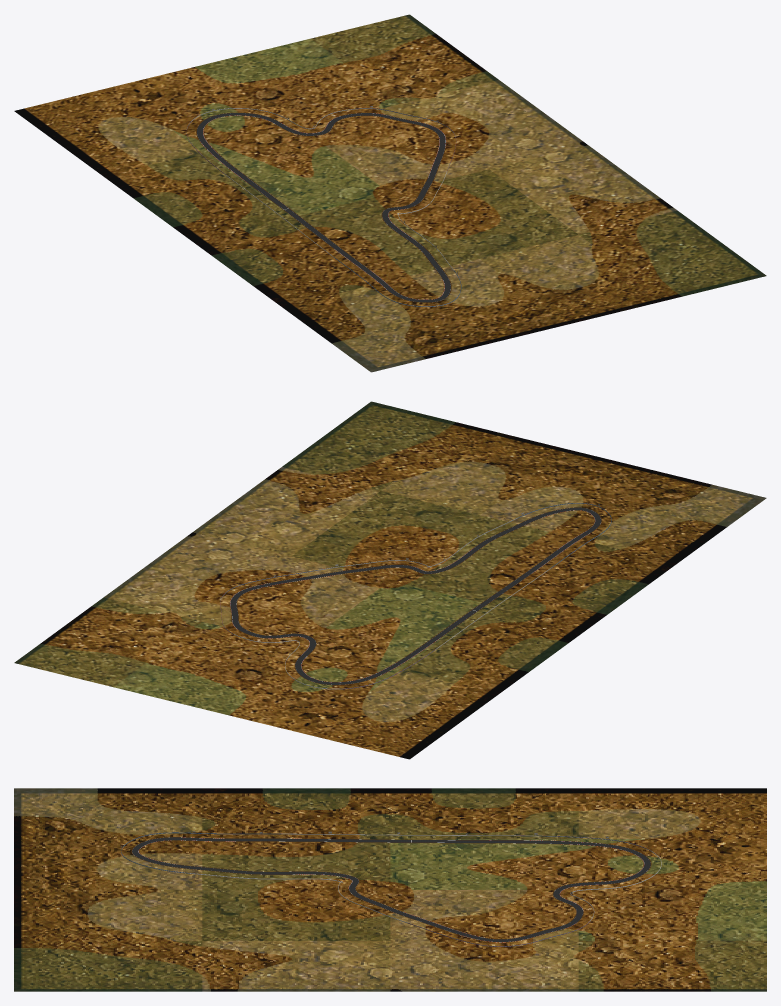
The model's file is la_chutana.glb.
3 renders of one model, top to bottom at view 1: azimuth 30°, elevation 25°; view 2: azimuth 150°, elevation 25°; view 3: azimuth 270°, elevation 25°, orthographic. The views are drawn at different scales.
Visible parts, largest first — view 1: GrassTerrainVisual, RoadVisual, Raw_Outer_TireBarrier, RightRoadsideVisual, LeftRoadsideVisual; view 2: GrassTerrainVisual, RoadVisual, Raw_Outer_TireBarrier, RightRoadsideVisual, LeftRoadsideVisual; view 3: GrassTerrainVisual, RoadVisual, Raw_Outer_TireBarrier, LeftRoadsideVisual, RightRoadsideVisual.
Boxes of the visible parts, x1,y1,x2,y2 form: GrassTerrainVisual: [14, 14, 766, 372]; RoadVisual: [197, 113, 450, 302]; Raw_Outer_TireBarrier: [186, 108, 461, 306]; RightRoadsideVisual: [196, 112, 451, 302]; LeftRoadsideVisual: [203, 115, 444, 299]; GrassTerrainVisual: [14, 401, 766, 759]; RoadVisual: [230, 507, 601, 684]; Raw_Outer_TireBarrier: [220, 503, 611, 689]; RightRoadsideVisual: [229, 507, 601, 685]; LeftRoadsideVisual: [236, 510, 594, 682]; GrassTerrainVisual: [14, 788, 766, 991]; RoadVisual: [132, 837, 650, 941]; Raw_Outer_TireBarrier: [121, 832, 661, 946]; LeftRoadsideVisual: [139, 840, 643, 939]; RightRoadsideVisual: [131, 837, 651, 942].
Size of what is drawn, in the model's own units: 894 by 7.28 by 1398.
28 materials, 24 textured.
